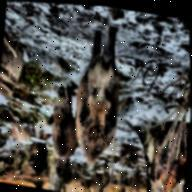boar: (67, 21, 128, 171)
